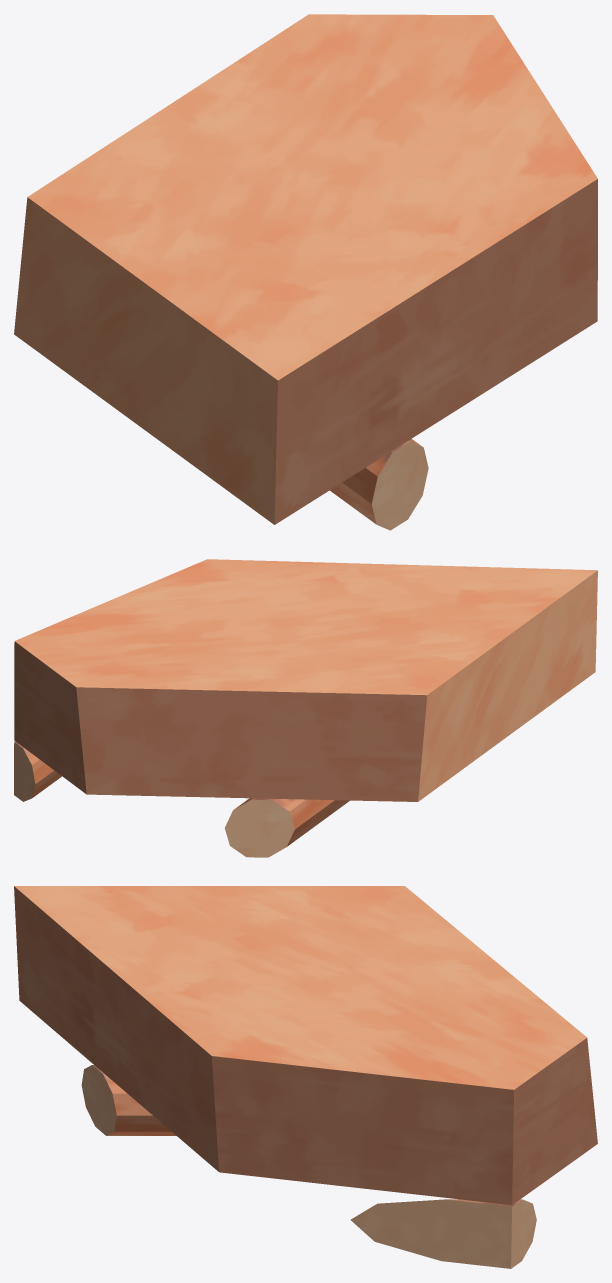
Rendered from roof_s05.fbx.
The picture shows the model from 3 angles, top to bottom: view 1: azimuth 30°, elevation 25°; view 2: azimuth 150°, elevation 25°; view 3: azimuth 270°, elevation 25°; orthographic projection. The views are drawn at different scales.
Parts seen in each view (by area): view 1: roof_s05; view 2: roof_s05; view 3: roof_s05.
Boxes of the visible parts, x1=… form: roof_s05: x1=14, y1=14, x2=597, y2=530; roof_s05: x1=14, y1=559, x2=597, y2=857; roof_s05: x1=14, y1=886, x2=597, y2=1268.
Bounding box in the file's own units: 4.06 × 1.65 × 4.89.
